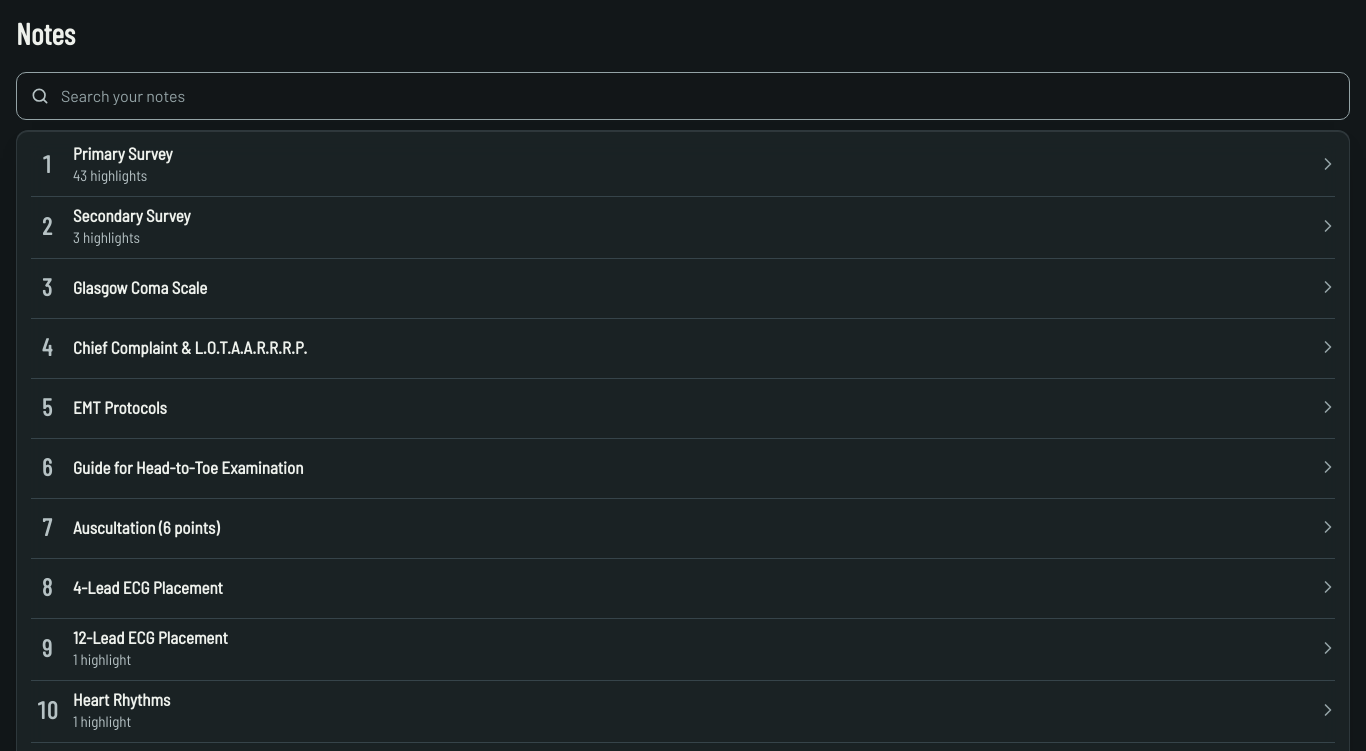
Notes tab: search › typing "ensapa" shows the match count and hit rows linking into s01 at the block
Type "ensapa" into the search field labelled "Search your notes" at (683, 96), box top-left (16, 72), bottom-right (1350, 120)
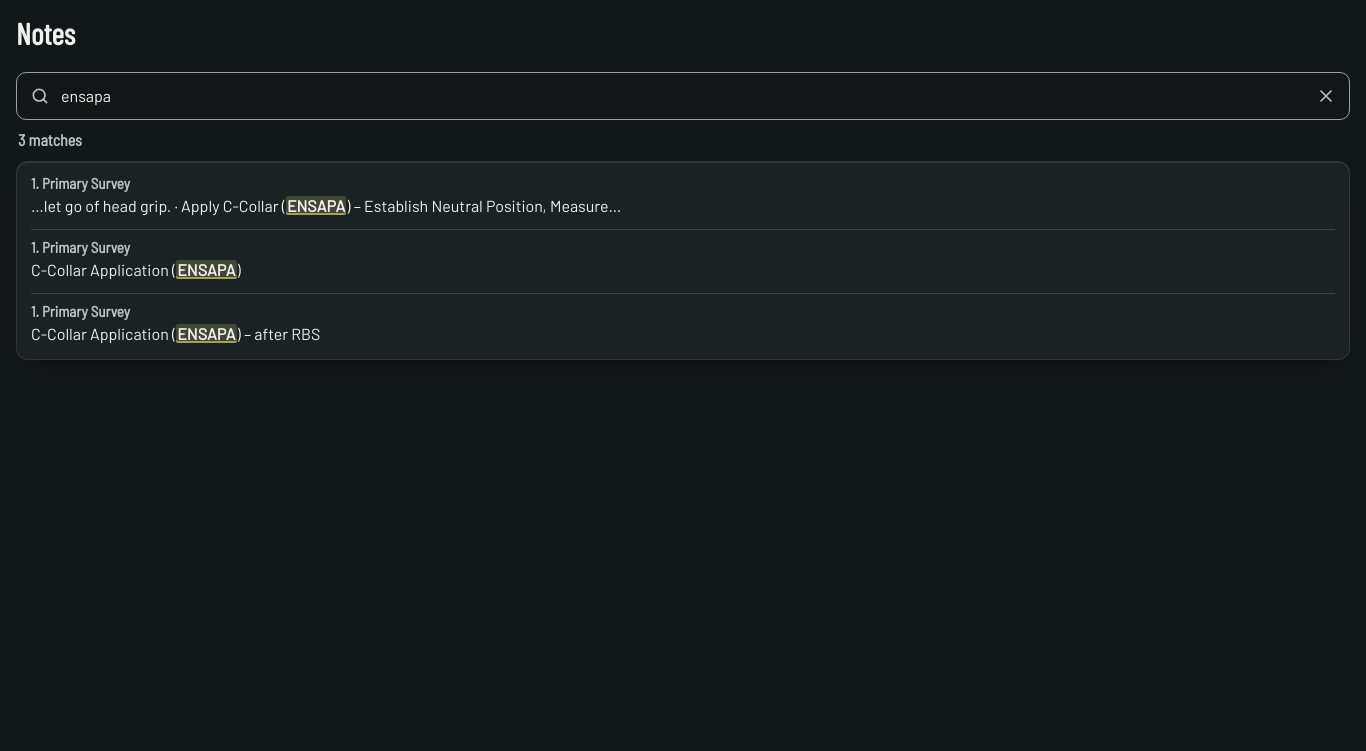
Check: the text "3 matches" is shown, box top-left (18, 130), bottom-right (82, 149)
Check: the 1st link shows "1. Primary Survey", box top-left (31, 174), bottom-right (621, 215)
Check: the text "ENSAPA" next to "…let go of head grip. · Apply C-Collar (" is shown, box top-left (287, 196), bottom-right (345, 215)
